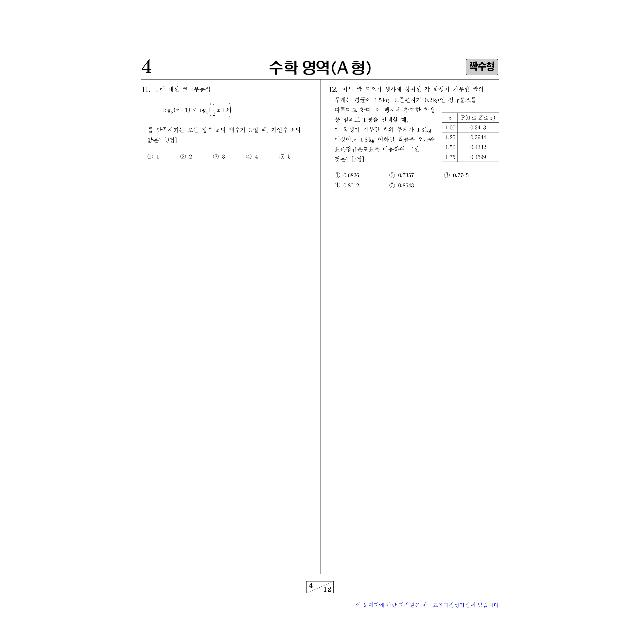multiple: (324, 82, 508, 198), (137, 81, 317, 170)
